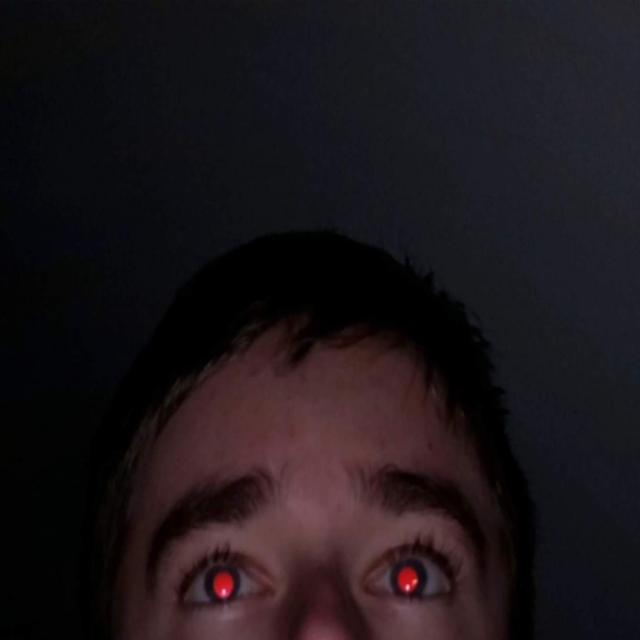reflexo-normal: (160, 540, 283, 620), (366, 527, 462, 621)
